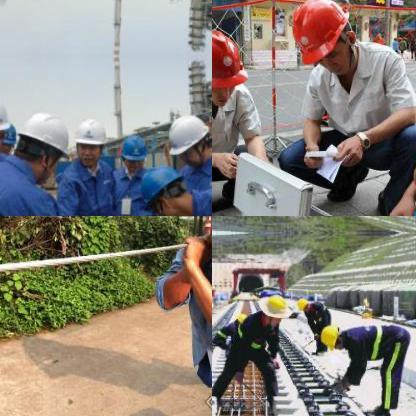Helmet: (276, 0, 356, 71), (15, 104, 66, 173), (136, 164, 192, 215), (212, 24, 248, 96), (169, 112, 211, 168), (72, 112, 108, 164), (118, 132, 146, 172), (0, 85, 12, 155), (317, 321, 343, 349), (261, 292, 289, 316), (293, 293, 313, 315), (14, 0, 67, 5), (234, 310, 250, 326)
